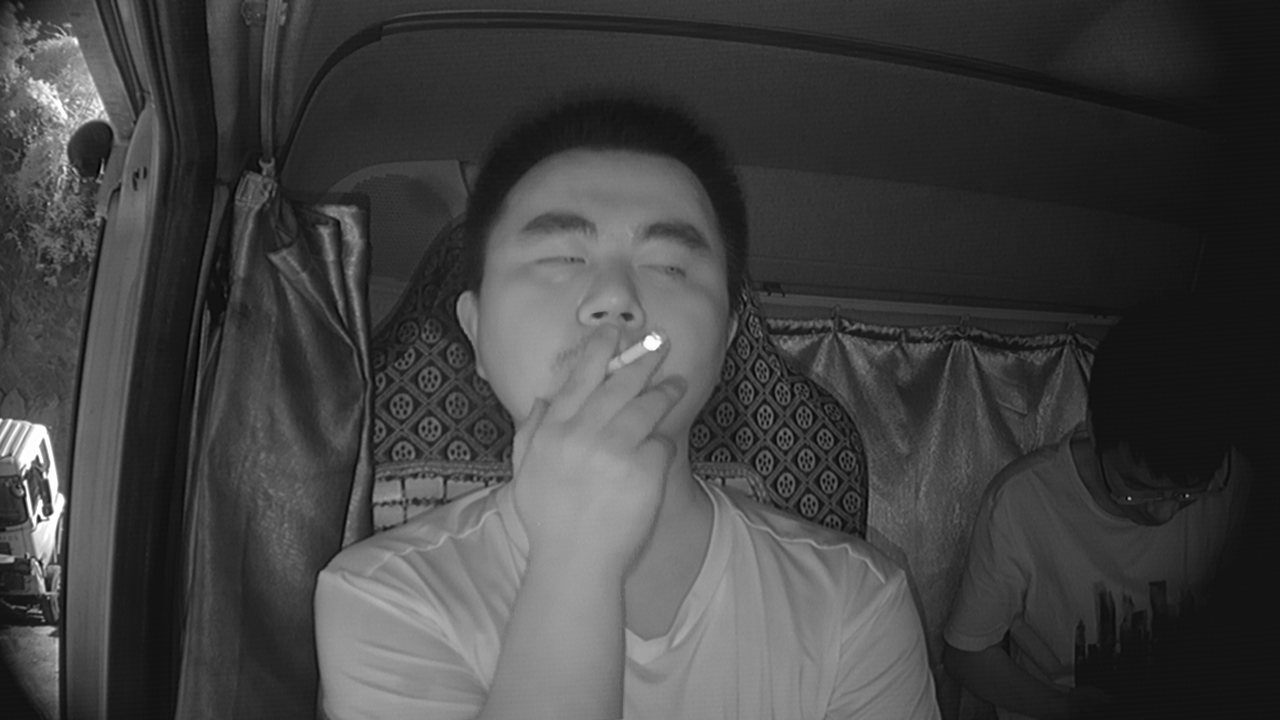hand: (510, 336, 668, 524)
